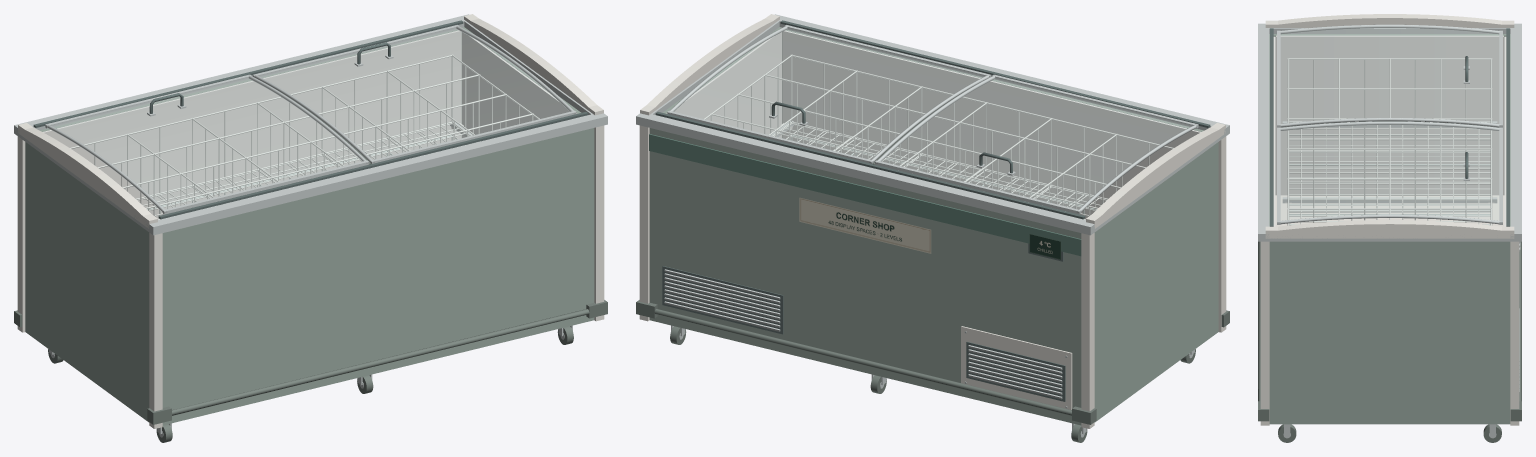
The model's file is chest-chiller-wide.glb.
3 renders of one model, left to right at view 1: azimuth 30°, elevation 25°; view 2: azimuth 150°, elevation 25°; view 3: azimuth 270°, elevation 25°, orthographic. The views are drawn at different scales.
Visible parts, largest first — view 1: library-equipment-chest-chiller-wide-product-equipment-sage, library-equipment-chest-chiller-wide-product-equipment-clear, library-equipment-chest-chiller-wide-product-equipment-white, library-equipment-chest-chiller-wide-product-equipment-steel, library-equipment-chest-chiller-wide-product-equipment-cream, library-equipment-chest-chiller-wide-product-equipment-chill, library-equipment-chest-chiller-wide-product-equipment-rubbe, library-equipment-chest-chiller-wide-product-equipment-dark; view 2: library-equipment-chest-chiller-wide-product-equipment-sage, library-equipment-chest-chiller-wide-product-equipment-clear, library-equipment-chest-chiller-wide-product-equipment-white, library-equipment-chest-chiller-wide-product-equipment-steel, library-equipment-chest-chiller-wide-product-equipment-cream, library-equipment-chest-chiller-wide-product-equipment-chill, library-equipment-chest-chiller-wide-product-equipment-dark, library-equipment-chest-chiller-wide-chest-chiller-wide-fron, library-equipment-chest-chiller-wide-product-equipment-rubbe, library-equipment-chest-chiller-wide-chest-chiller-wide-capa, library-equipment-chest-chiller-wide-chest-chiller-wide-temp; view 3: library-equipment-chest-chiller-wide-product-equipment-sage, library-equipment-chest-chiller-wide-product-equipment-clear, library-equipment-chest-chiller-wide-product-equipment-white, library-equipment-chest-chiller-wide-product-equipment-chill (×2), library-equipment-chest-chiller-wide-product-equipment-steel, library-equipment-chest-chiller-wide-product-equipment-cream, library-equipment-chest-chiller-wide-product-equipment-rubbe, library-equipment-chest-chiller-wide-product-equipment-dark.
Boxes of the visible parts, box(x1,y1,x2,y2) form: library-equipment-chest-chiller-wide-product-equipment-sage: box(25, 27, 594, 425); library-equipment-chest-chiller-wide-product-equipment-clear: box(53, 28, 569, 209); library-equipment-chest-chiller-wide-product-equipment-white: box(43, 30, 577, 218); library-equipment-chest-chiller-wide-product-equipment-steel: box(14, 14, 607, 437); library-equipment-chest-chiller-wide-product-equipment-cream: box(17, 14, 604, 428); library-equipment-chest-chiller-wide-product-equipment-chill: box(70, 54, 539, 219); library-equipment-chest-chiller-wide-product-equipment-rubbe: box(14, 79, 607, 442); library-equipment-chest-chiller-wide-product-equipment-dark: box(33, 20, 588, 219); library-equipment-chest-chiller-wide-product-equipment-sage: box(649, 27, 1218, 425); library-equipment-chest-chiller-wide-product-equipment-clear: box(674, 28, 1190, 209); library-equipment-chest-chiller-wide-product-equipment-white: box(666, 30, 1200, 218); library-equipment-chest-chiller-wide-product-equipment-steel: box(636, 14, 1229, 437); library-equipment-chest-chiller-wide-product-equipment-cream: box(639, 14, 1226, 428); library-equipment-chest-chiller-wide-product-equipment-chill: box(704, 54, 1173, 219); library-equipment-chest-chiller-wide-product-equipment-dark: box(655, 20, 1210, 407); library-equipment-chest-chiller-wide-chest-chiller-wide-fron: box(649, 134, 1081, 256); library-equipment-chest-chiller-wide-product-equipment-rubbe: box(636, 79, 1229, 442); library-equipment-chest-chiller-wide-chest-chiller-wide-capa: box(799, 197, 931, 253); library-equipment-chest-chiller-wide-chest-chiller-wide-temp: box(1029, 234, 1060, 259); library-equipment-chest-chiller-wide-product-equipment-sage: box(1269, 34, 1510, 424); library-equipment-chest-chiller-wide-product-equipment-clear: box(1281, 27, 1498, 220); library-equipment-chest-chiller-wide-product-equipment-white: box(1273, 35, 1506, 226); library-equipment-chest-chiller-wide-product-equipment-chill (×2): box(1287, 58, 1492, 225); library-equipment-chest-chiller-wide-product-equipment-steel: box(1258, 23, 1521, 438); library-equipment-chest-chiller-wide-product-equipment-cream: box(1260, 14, 1519, 425); library-equipment-chest-chiller-wide-product-equipment-rubbe: box(1258, 121, 1521, 442); library-equipment-chest-chiller-wide-product-equipment-dark: box(1270, 28, 1509, 226).
Size of the model in its own units: 1.96 by 1.04 by 1.04.
12 materials, 2 textured.
